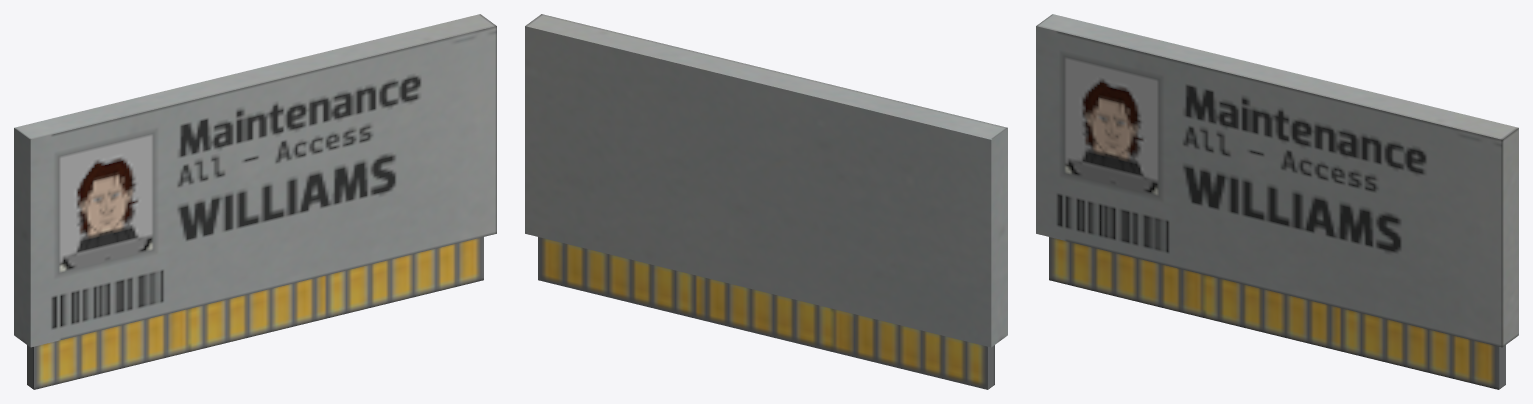
The model's file is ReactorCard.fbx.
The picture shows the model from 3 angles, left to right: view 1: azimuth 30°, elevation 25°; view 2: azimuth 150°, elevation 25°; view 3: azimuth 330°, elevation 25°; orthographic projection.
Visible parts, largest first — view 1: Reactor_swipepass; view 2: Reactor_swipepass; view 3: Reactor_swipepass.
Boxes of the visible parts, box(x1,y1,x2,y2) form: Reactor_swipepass: box(14, 14, 496, 389); Reactor_swipepass: box(525, 14, 1007, 389); Reactor_swipepass: box(1036, 14, 1518, 389).
Bounding box in the file's own units: 11.38 × 5.96 × 0.7.
1 material, 1 textured.
